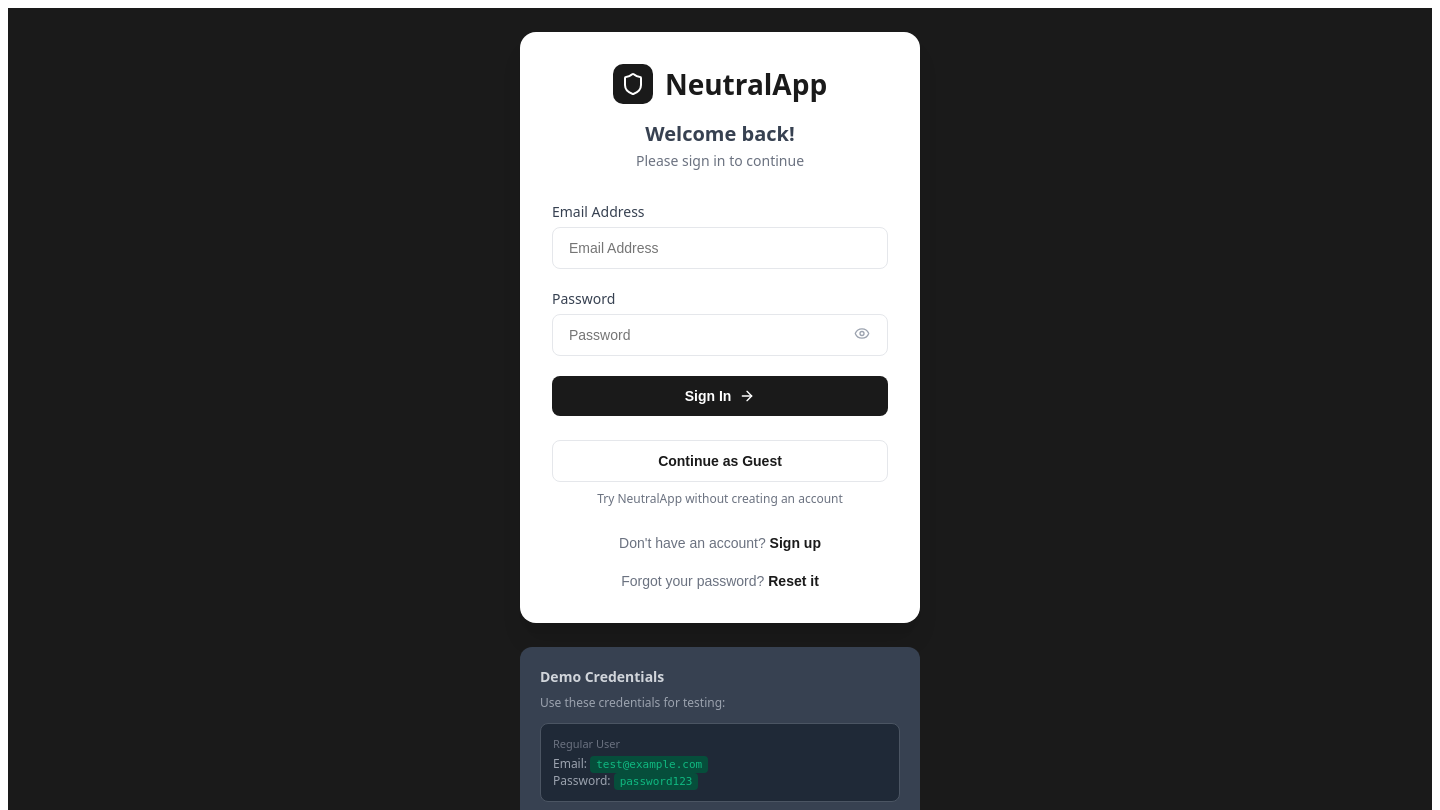
Test case: AuthPage › Password Reset Mode › should render password reset form
Note: Switch to reset mode
Click the button "Forgot your password? Reset it".
click(720, 581)  # box 615,572 -> 825,590
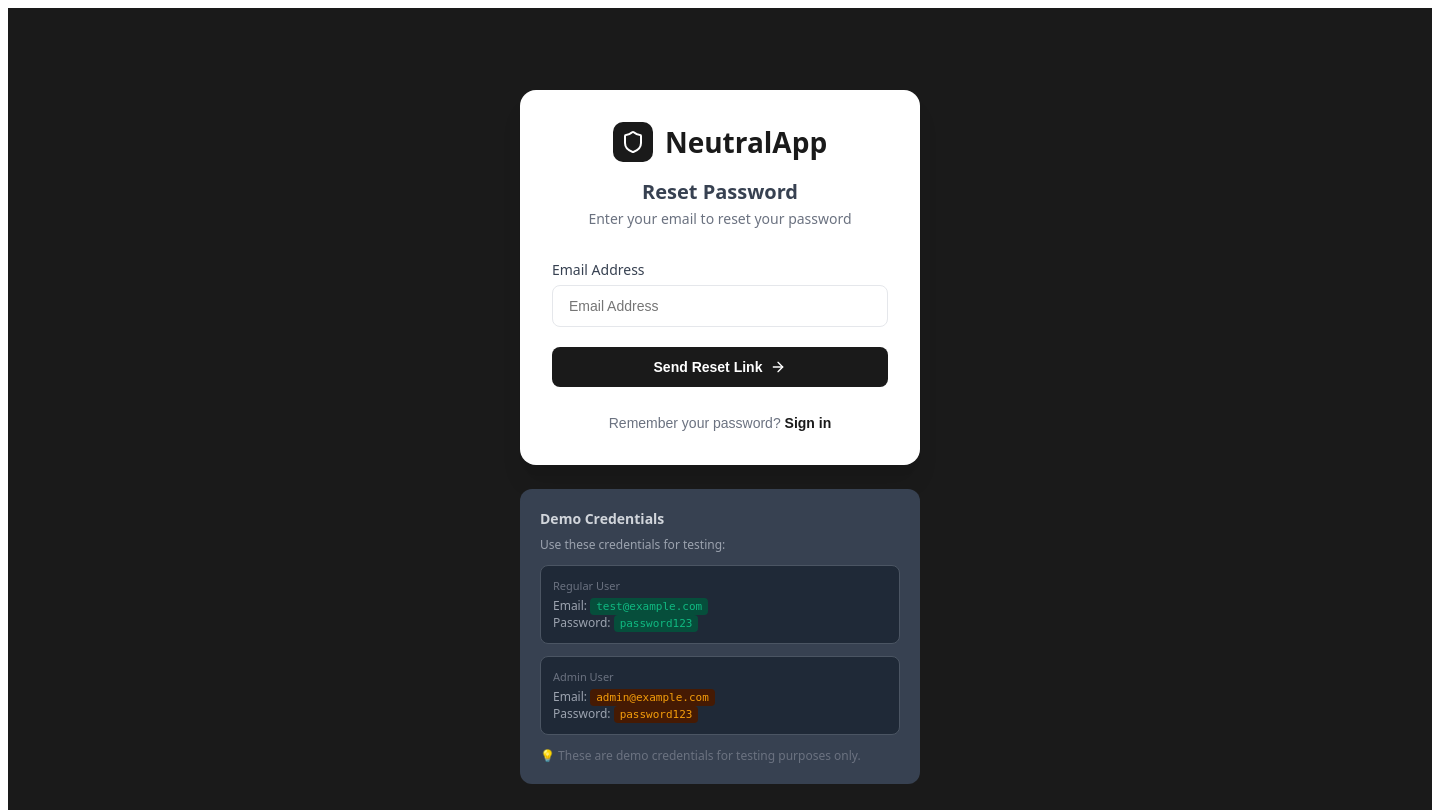
Result: the heading "Reset Password" is shown at 642,178 -> 798,205
Result: the text "Enter your email to reset your password" is shown at 588,209 -> 852,228
Result: the button "Send Reset Link" is shown at 552,347 -> 888,387
